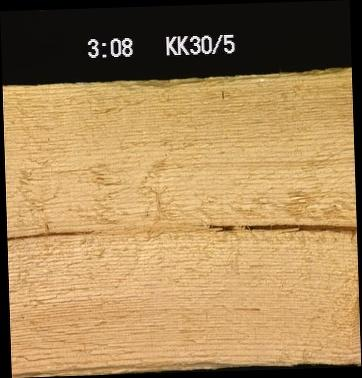wave: (48, 356, 237, 372)
